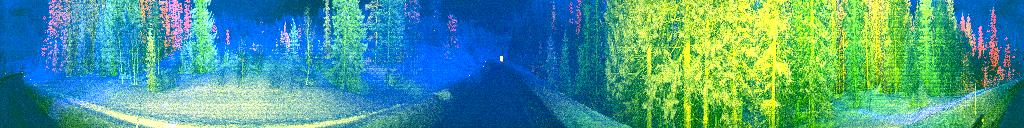pole: (132, 94, 146, 128), (972, 80, 979, 118)
